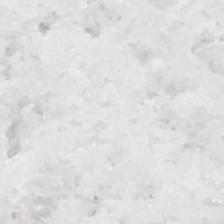Non_Crack: (26, 29, 221, 199)
